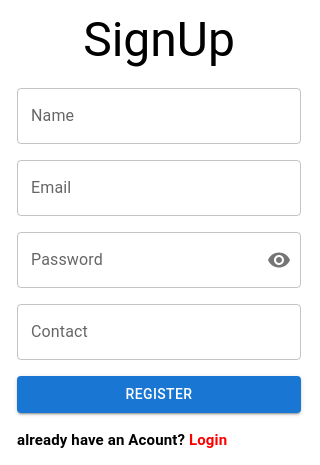
Test: Register Page unit Tests › Testing toggles password visibility
What coordinates should you click on to do the following:
click the button with test id "VisibilityIcon"
I would click on:
 (279, 260)
Its box is [259, 240, 299, 280].
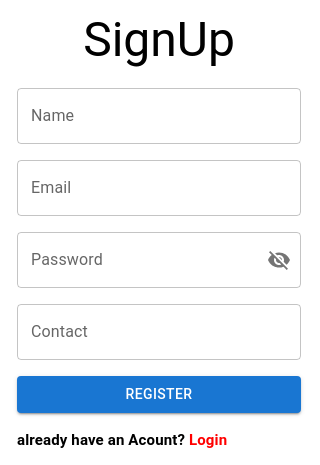
expect the icon with test id "VisibilityOffIcon" is shown: met, box [267, 248, 291, 272]
expect the icon with test id "VisibilityIcon" is gone: met
What coordinates should you click on to do the following:
click the button with test id "VisibilityOffIcon"
I would click on:
 (279, 260)
Its box is [259, 240, 299, 280].
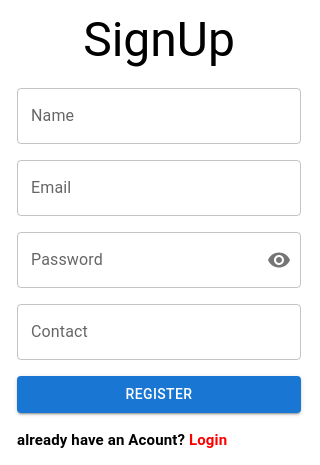
expect the icon with test id "VisibilityOffIcon" is gone: met
